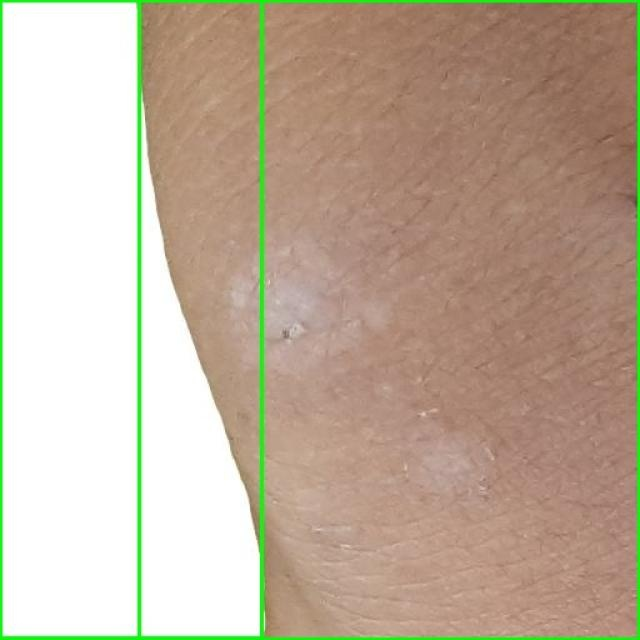Scabies: (139, 0, 639, 639), (0, 0, 262, 639)
